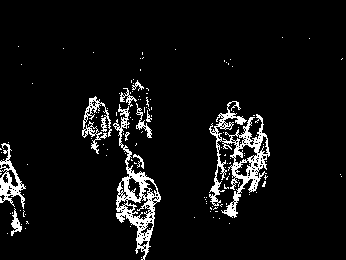person: (115, 155, 161, 255), (232, 113, 272, 218), (209, 100, 240, 212), (1, 139, 28, 228), (82, 97, 112, 157), (129, 80, 156, 144), (113, 86, 136, 156)
